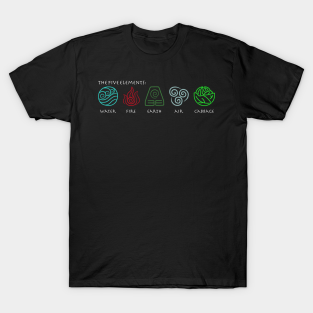design: (96, 78, 217, 115)
